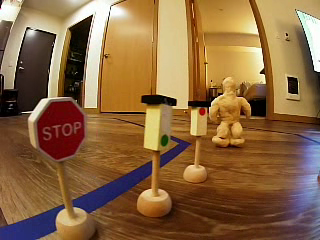Red traffic light: (186, 90, 211, 142)
green traffic light: (133, 94, 183, 157)
person: (216, 77, 252, 149)
stop: (21, 86, 101, 164)
